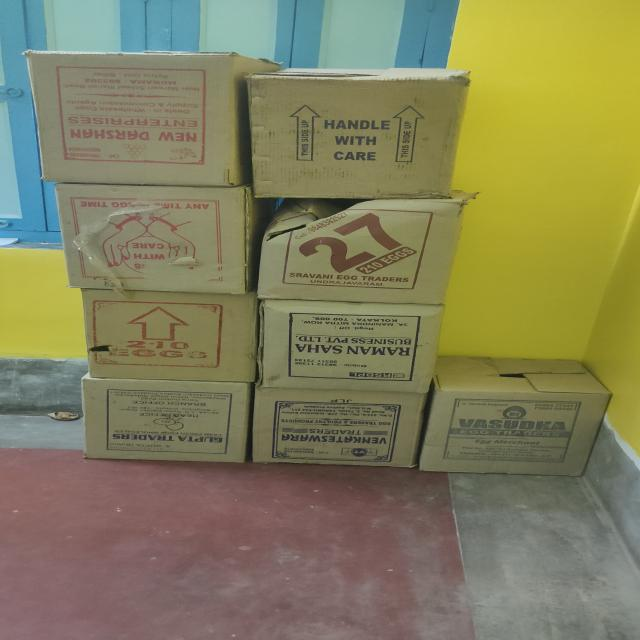squeeze: (201, 177, 375, 263)
